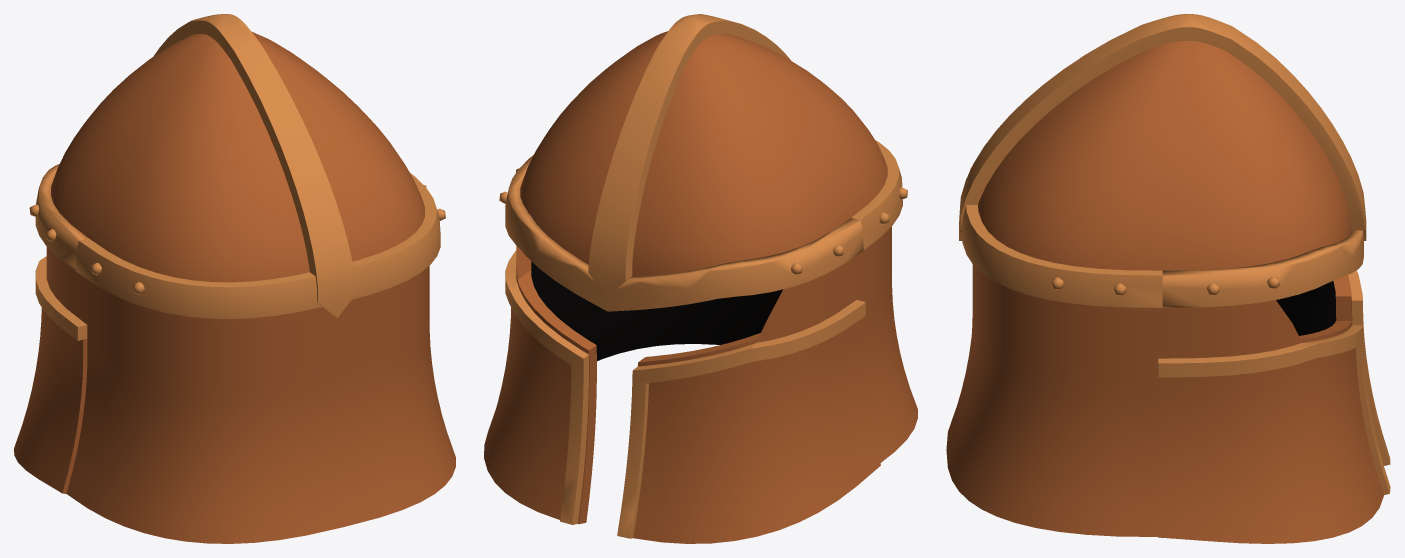
Rendered from CasqueBronze.fbx.
The picture shows the model from 3 angles, left to right: view 1: azimuth 30°, elevation 25°; view 2: azimuth 150°, elevation 25°; view 3: azimuth 270°, elevation 25°; orthographic projection. The views are drawn at different scales.
Visible parts, largest first — view 1: Bronze, BronzeClair; view 2: Bronze, BronzeClair, Doublure; view 3: Bronze, BronzeClair, Doublure.
Part boxes in pixels (box(x1,y1,x2,y2)): Bronze: box(14, 31, 455, 543); BronzeClair: box(29, 14, 445, 340); Bronze: box(484, 31, 917, 543); BronzeClair: box(499, 14, 907, 538); Doublure: box(531, 261, 782, 361); Bronze: box(946, 41, 1383, 543); BronzeClair: box(959, 14, 1390, 494); Doublure: box(1276, 281, 1336, 335).
Size of the model in its own units: 186 by 228 by 196.
